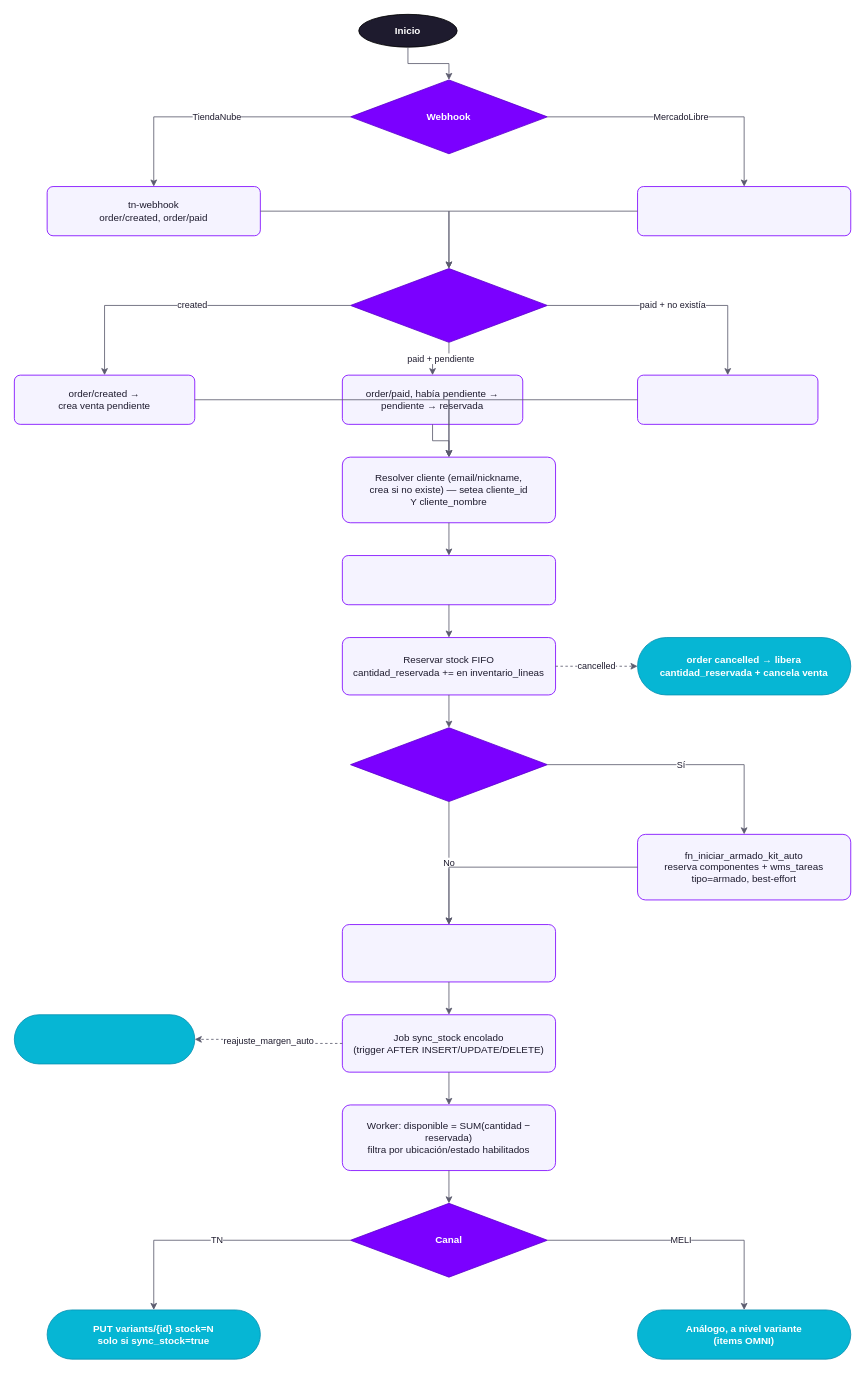
This 865x1374 diagram has some shape labels left out. Each missing label, with the centre of its shape:
Envío automático (best-effort): cliente_domicilios + envios: pixel 449 953
Job sync_precio (opt-in) publica precio_venta × (1+%): pixel 104 1039
meli-webhook orders_v2: pixel 744 211
order/paid, no existía → crea venta reservada directo: pixel 727 399
Resolver producto (mapa TN/MELI, fallback SKU/título): pixel 449 580
¿Falta stock y producto es KIT?: pixel 448 764
¿Ya existe la venta? (idempotencia por clave): pixel 448 305
